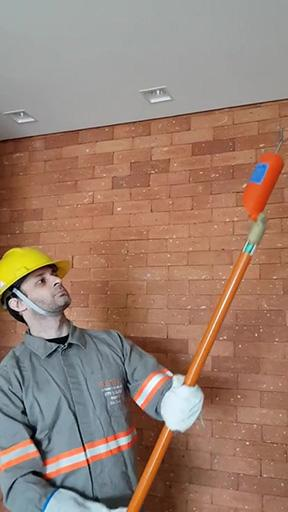Detector_Tensao_Contato: (241, 127, 288, 225)
Vara_Manobra: (128, 218, 270, 512)
